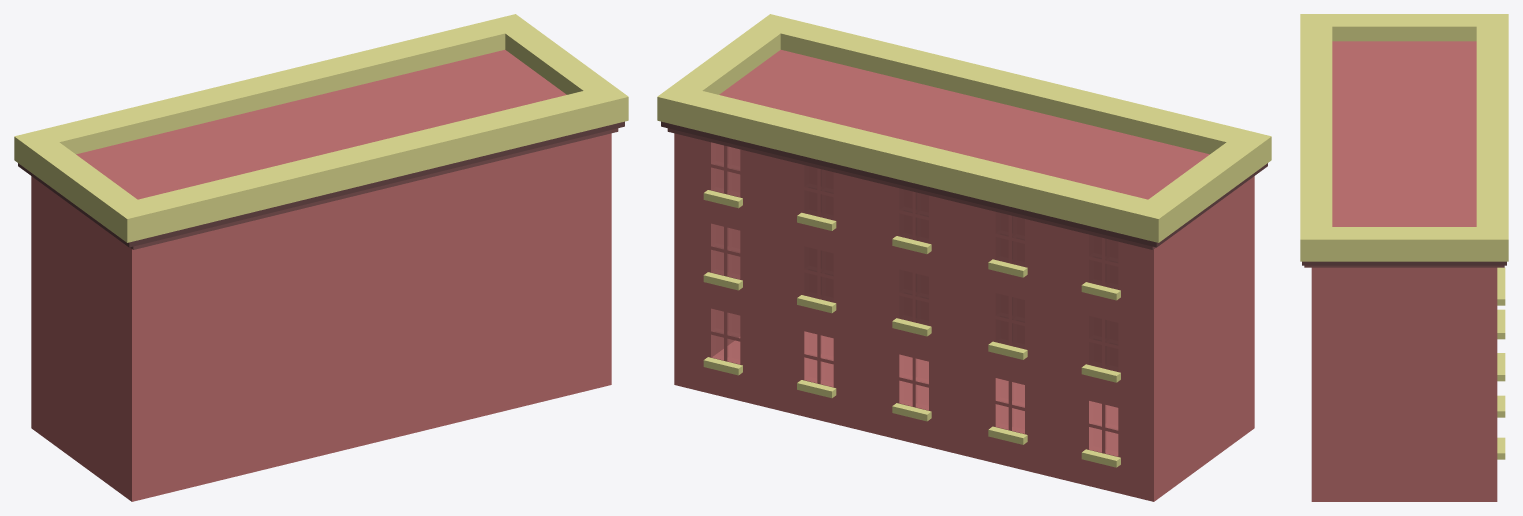
Rendered from building1_apt.fbx.
3 views of the same model, side by side, from view 1: azimuth 30°, elevation 25°; view 2: azimuth 150°, elevation 25°; view 3: azimuth 270°, elevation 25° (orthographic). The views are drawn at different scales.
Visible parts, largest first — view 1: pCube223; view 2: pCube223; view 3: pCube223.
Part boxes in pixels (x1,y1,x2,y2): pCube223: [14, 14, 628, 501]; pCube223: [657, 14, 1271, 501]; pCube223: [1300, 14, 1508, 501].
Bounding box in the file's own units: 11.5 × 6.35 × 4.49.
